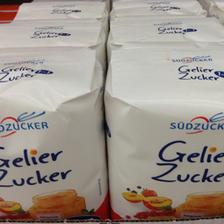Zucker: (101, 42, 223, 218), (0, 42, 108, 222)
